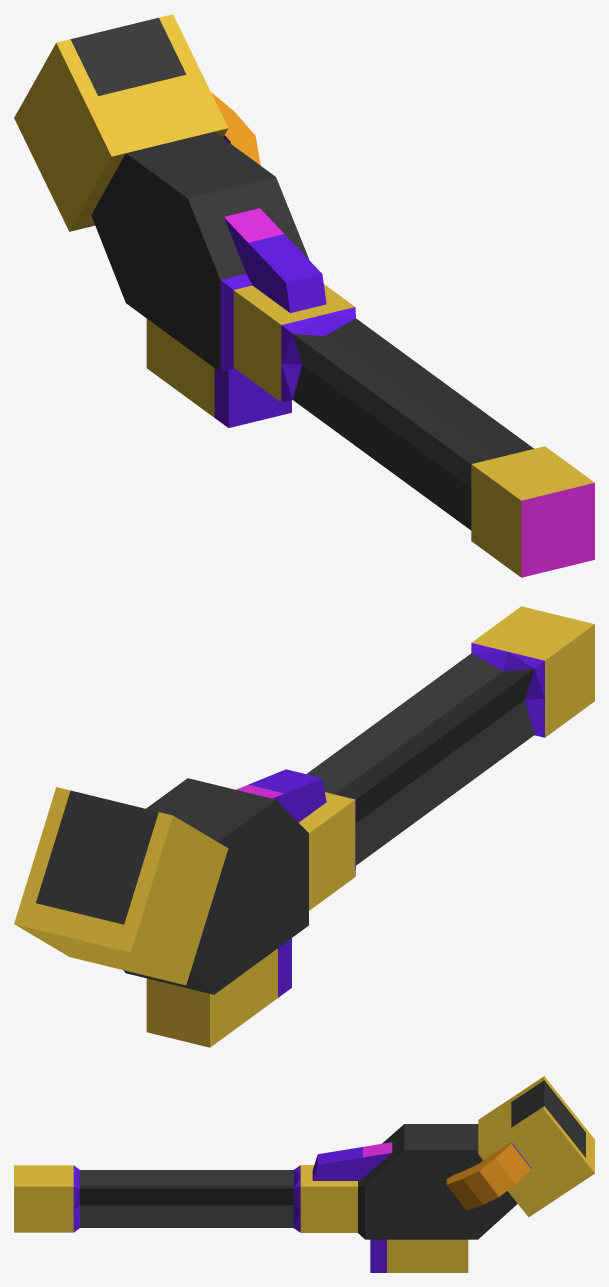
Rendered from GatlingBlaster.dae.
The picture shows the model from 3 angles, top to bottom: view 1: azimuth 30°, elevation 25°; view 2: azimuth 150°, elevation 25°; view 3: azimuth 270°, elevation 25°; orthographic projection. The views are drawn at different scales.
Visible parts, largest first — view 1: Cube.003; view 2: Cube.003; view 3: Cube.003.
Boxes of the visible parts, x1,y1,x2,y2 form: Cube.003: (14,14,594,577); Cube.003: (14,606,594,1047); Cube.003: (14,1076,594,1272).
Bounding box in the file's own units: 4.57 × 26.58 × 8.62.
